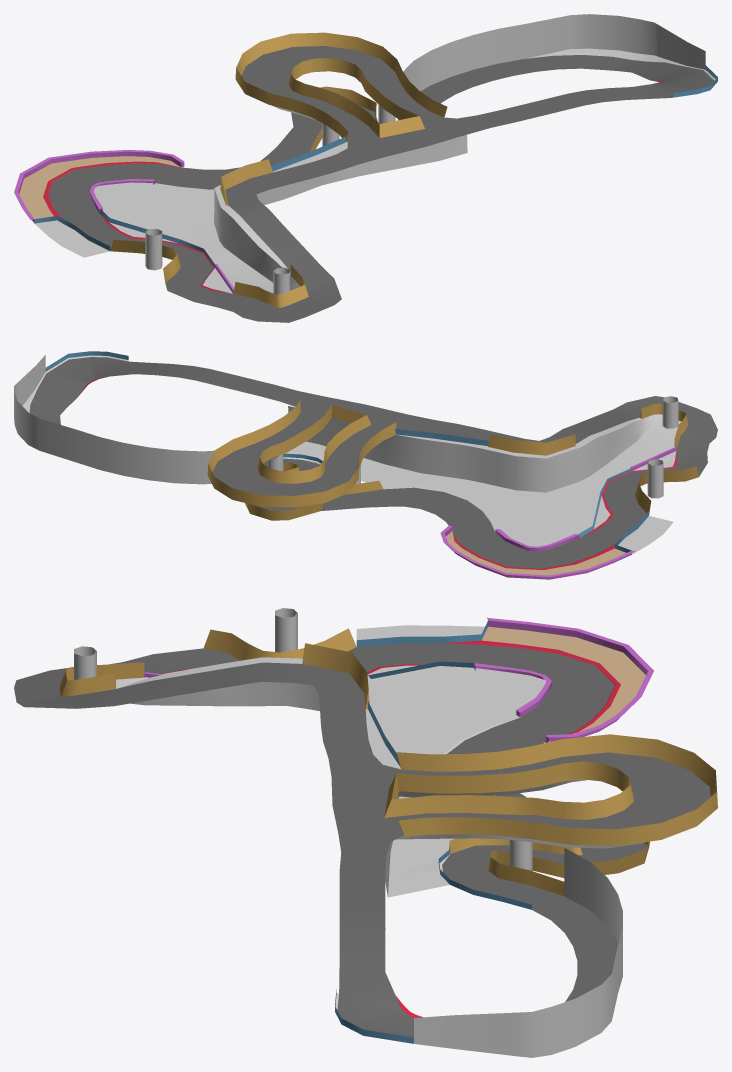
File: track.dae
3 renders of one model, top to bottom at view 1: azimuth 30°, elevation 25°; view 2: azimuth 150°, elevation 25°; view 3: azimuth 270°, elevation 25°, orthographic. The views are drawn at different scales.
Visible parts, largest first — view 1: Plane; view 2: Plane; view 3: Plane.
Part boxes in pixels (x1=…): Plane: x1=14, y1=14, x2=717, y2=322; Plane: x1=14, y1=351, x2=717, y2=579; Plane: x1=14, y1=608, x2=717, y2=1057.
Size of the model in its own units: 50.54 by 34 by 3.77.
